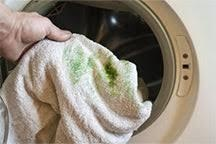earth: (102, 62, 119, 89), (69, 57, 83, 82), (87, 58, 96, 69)
